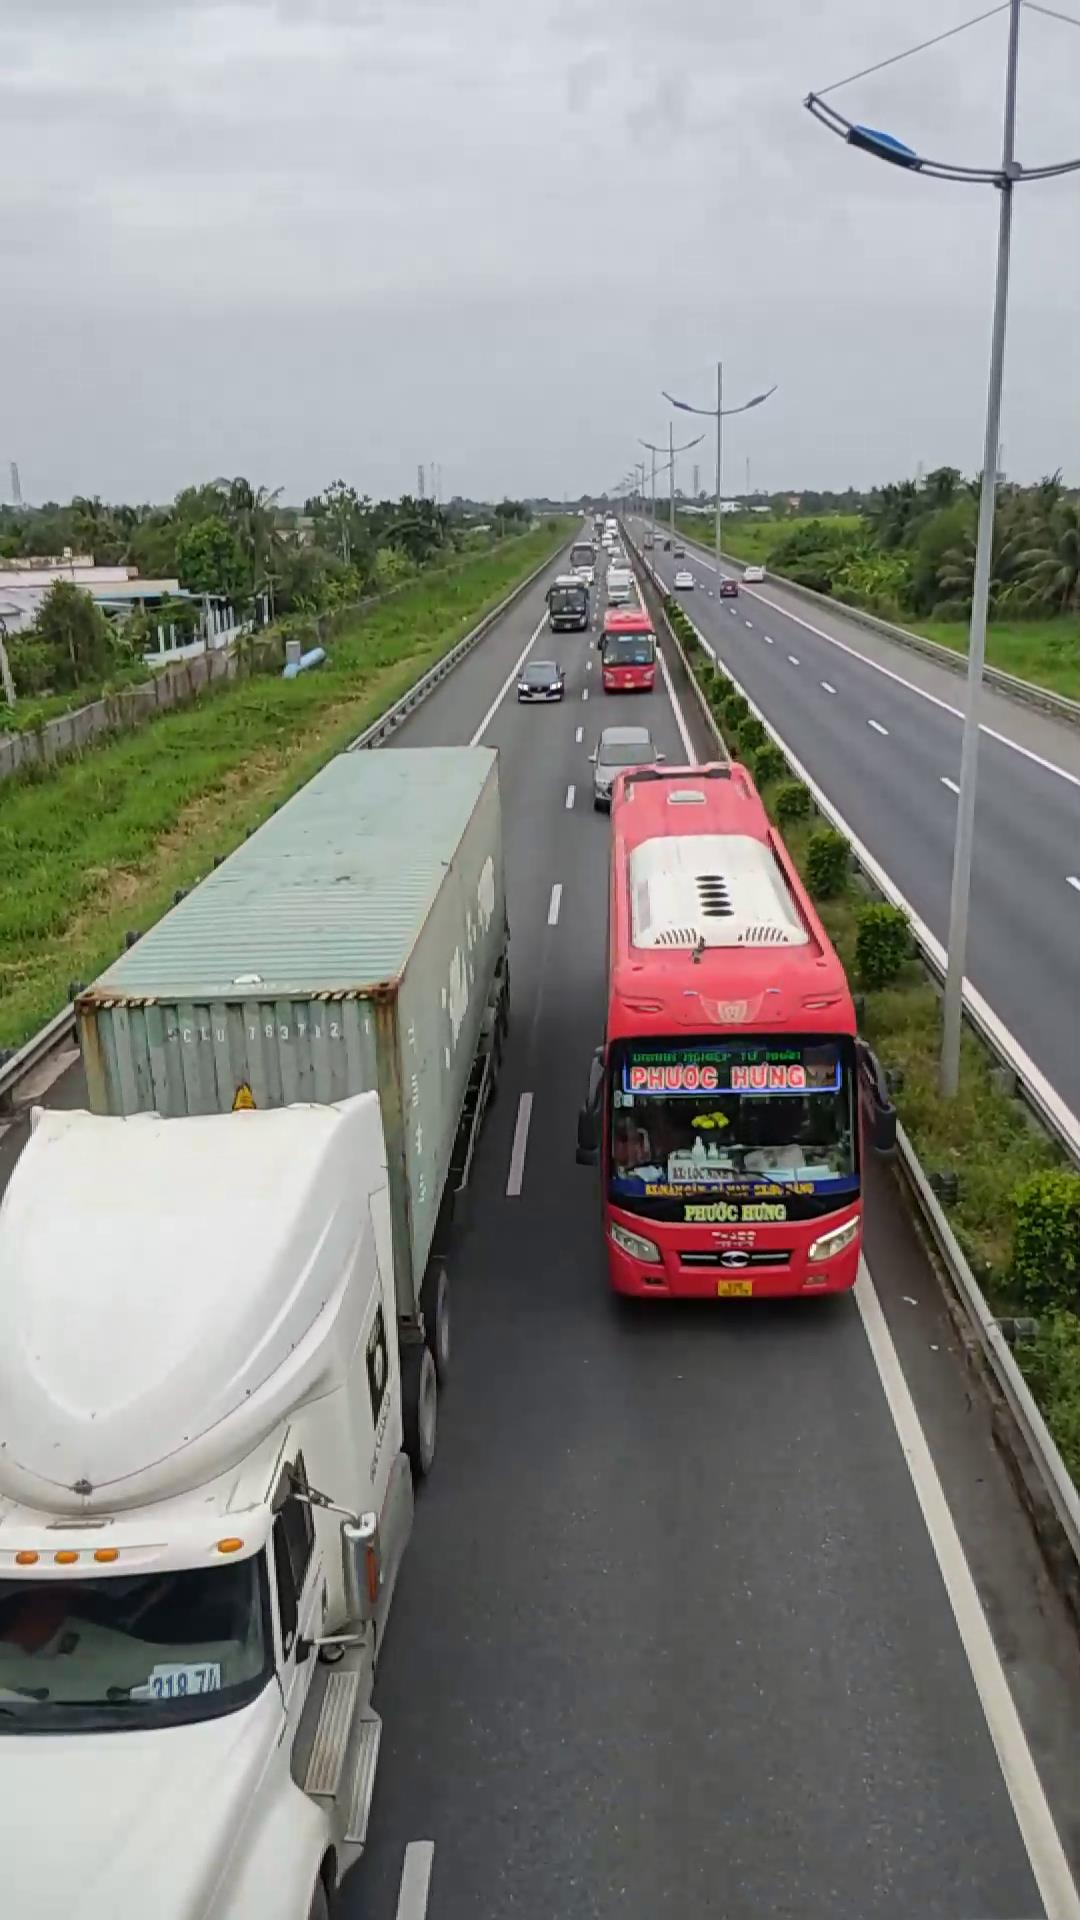bus: (591, 752, 869, 1302)
container: (0, 733, 508, 1920)
